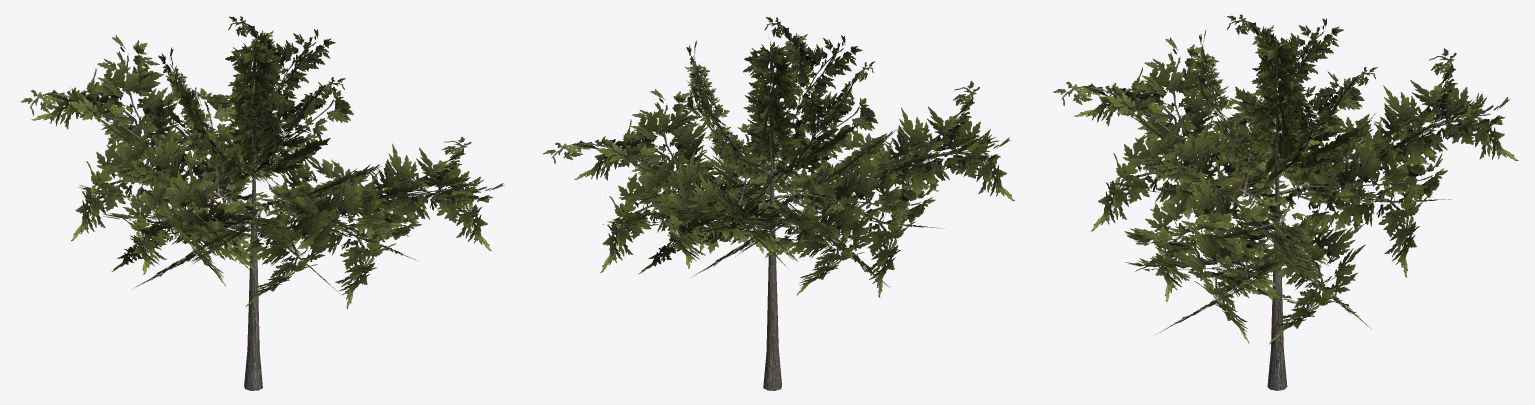
File: Sharp_Maple04.gltf
3 renders of one model, left to right at view 1: azimuth 30°, elevation 25°; view 2: azimuth 150°, elevation 25°; view 3: azimuth 270°, elevation 25°, orthographic.
Parts seen in each view (by area): view 1: Efol, Dfol, cfol, Bfol, Afol, trunk; view 2: cfol, Dfol, Efol, Bfol, Afol, trunk; view 3: Efol, Dfol, cfol, Bfol, Afol, trunk.
Boxes of the visible parts, x1,y1,x2,y2 form: Efol: (21,35,285,241); Dfol: (256,136,504,309); cfol: (103,168,342,306); Bfol: (153,16,353,185); Afol: (222,41,285,159); trunk: (244,155,262,390); cfol: (767,81,1014,297); Dfol: (543,89,816,272); Efol: (638,170,889,295); Bfol: (685,17,878,186); Afol: (742,38,803,170); trunk: (763,156,781,390); Efol: (1278,48,1518,277); Dfol: (1124,169,1371,344); cfol: (1053,37,1321,234); Bfol: (1188,14,1377,183); Afol: (1248,36,1306,165); trunk: (1267,152,1287,390).
Bounding box in the file's own units: 7.82 × 6.05 × 7.34.
2 materials, 2 textured.
